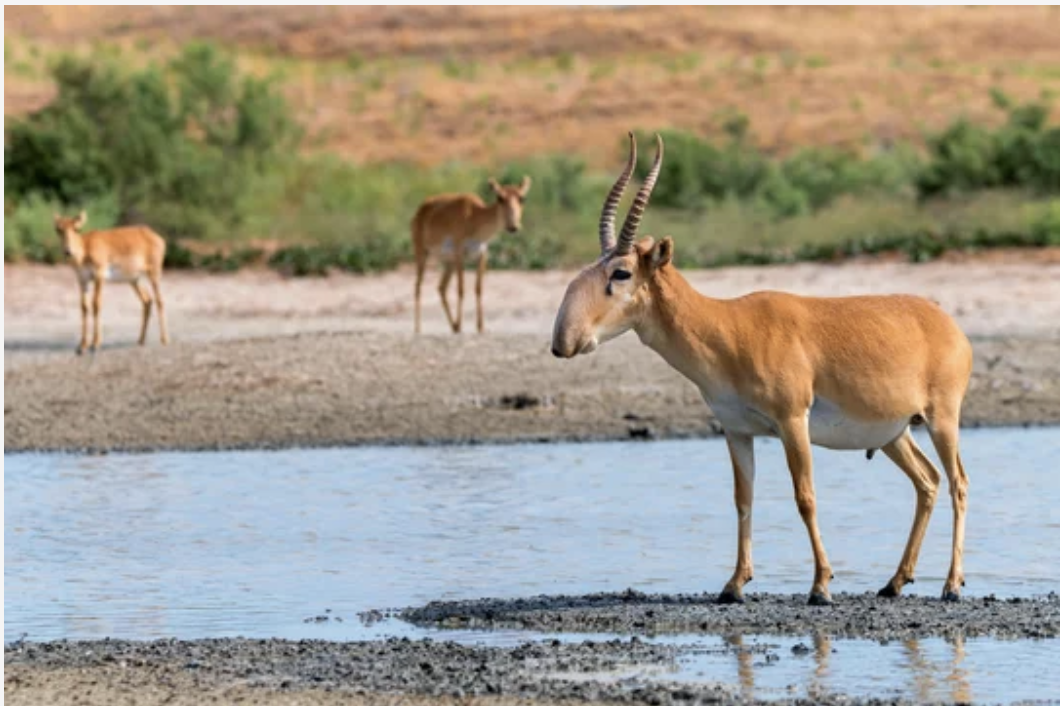saiga: (558, 123, 1006, 644)
